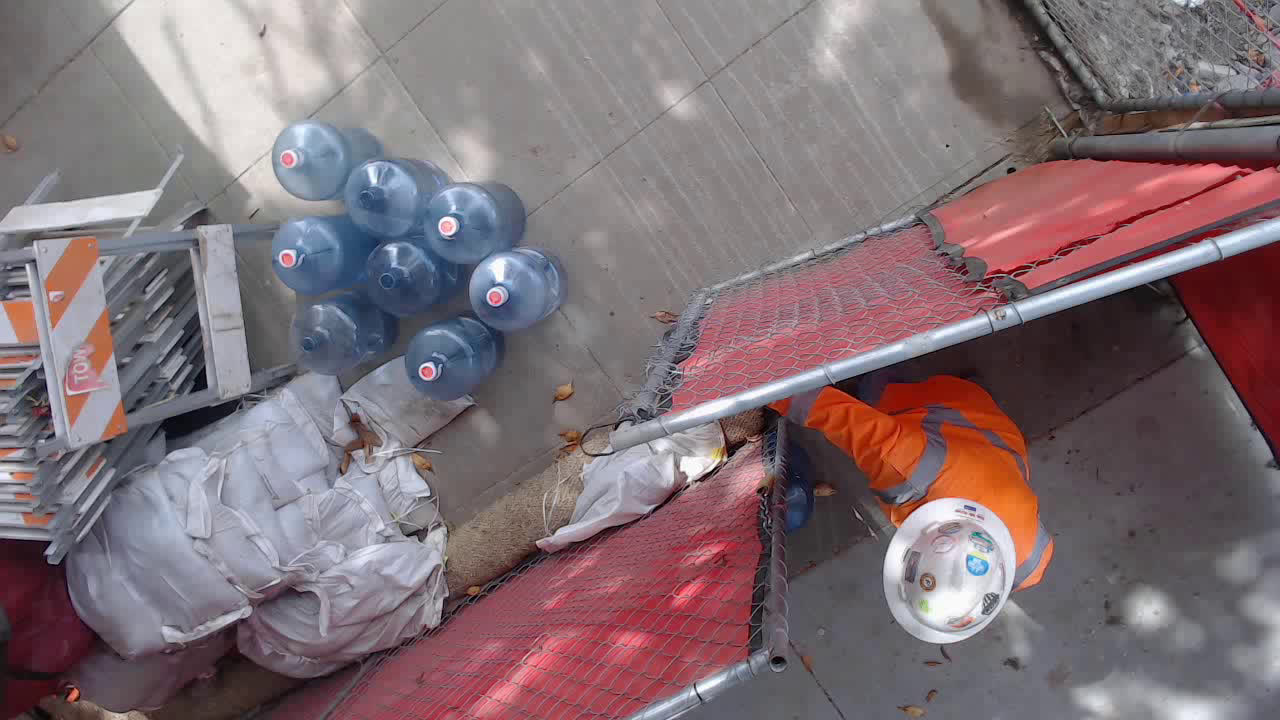hardhat: (883, 497, 1016, 646)
safetyvest: (785, 381, 1055, 584)
